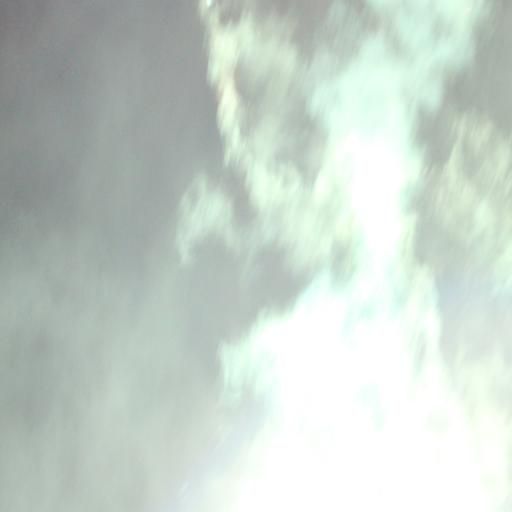la: (26, 166, 32, 170)
